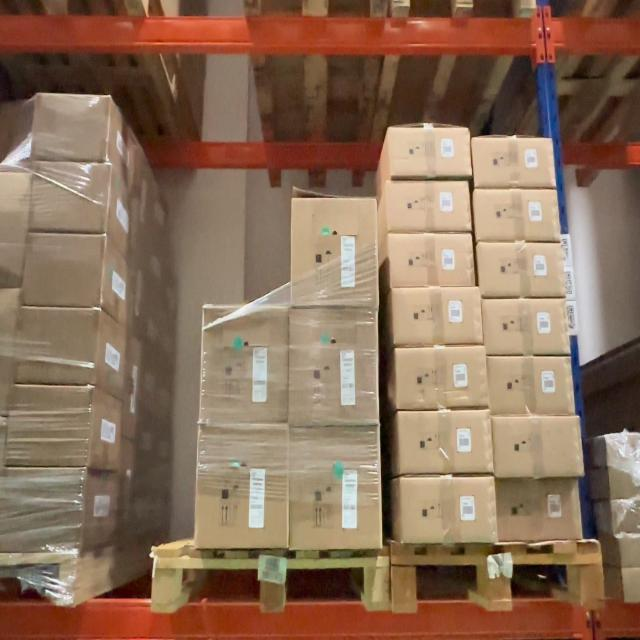box: (290, 430, 381, 546), (201, 428, 288, 548), (290, 313, 377, 422), (204, 310, 288, 422), (292, 200, 377, 305), (5, 470, 85, 550), (9, 388, 88, 466), (400, 478, 495, 540), (20, 310, 95, 382), (400, 413, 491, 472), (397, 350, 486, 408), (34, 163, 109, 230), (498, 418, 582, 476), (500, 479, 582, 538), (29, 239, 102, 305), (37, 96, 109, 162), (395, 288, 481, 343), (492, 358, 574, 415), (486, 300, 569, 353), (483, 244, 564, 296), (392, 235, 474, 286), (391, 181, 472, 231), (476, 192, 558, 241), (475, 138, 555, 186), (390, 129, 469, 177), (0, 170, 26, 285), (1, 295, 16, 415)
